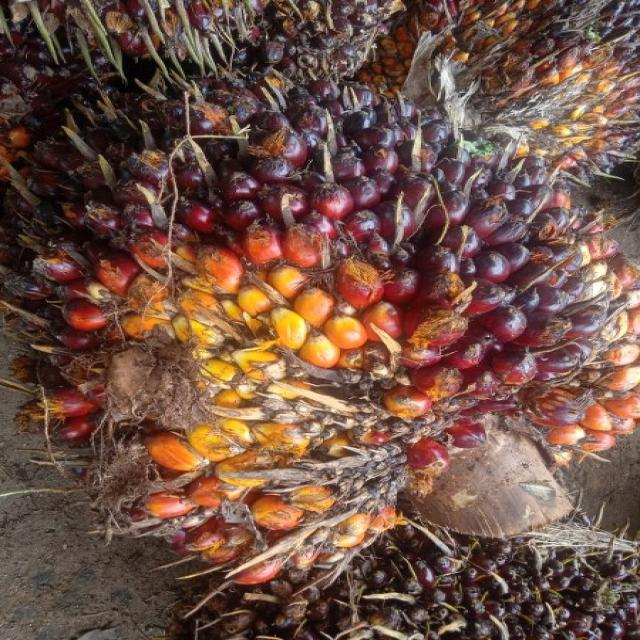fraksi 1: (0, 90, 638, 582)
